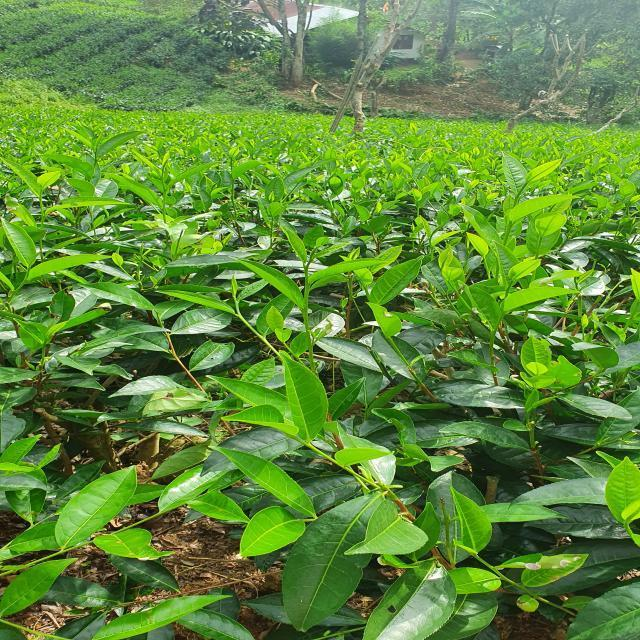Stem: (238, 314, 244, 320), (305, 267, 308, 273)
